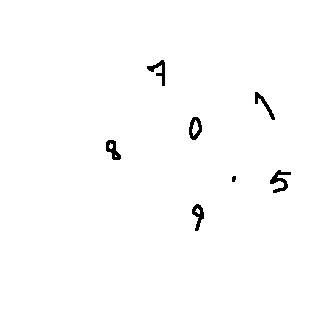.: (226, 167, 242, 189)
0: (181, 110, 208, 151)
1: (252, 88, 283, 125)
5: (255, 164, 296, 201)
7: (140, 56, 172, 99)
8: (94, 132, 130, 174)
9: (189, 195, 220, 250)
